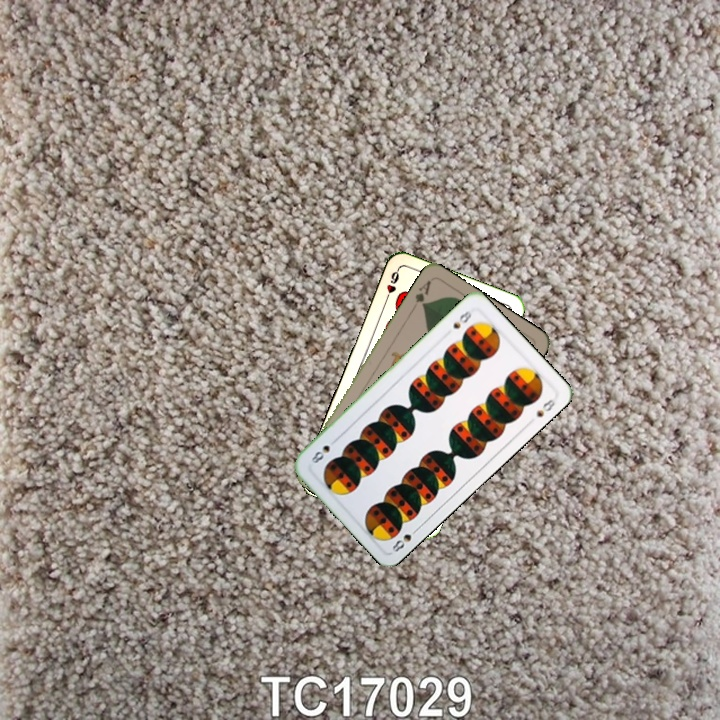GA: (408, 276, 434, 313)
H9: (381, 265, 402, 304)
S8: (388, 523, 422, 555), (449, 306, 474, 331)
